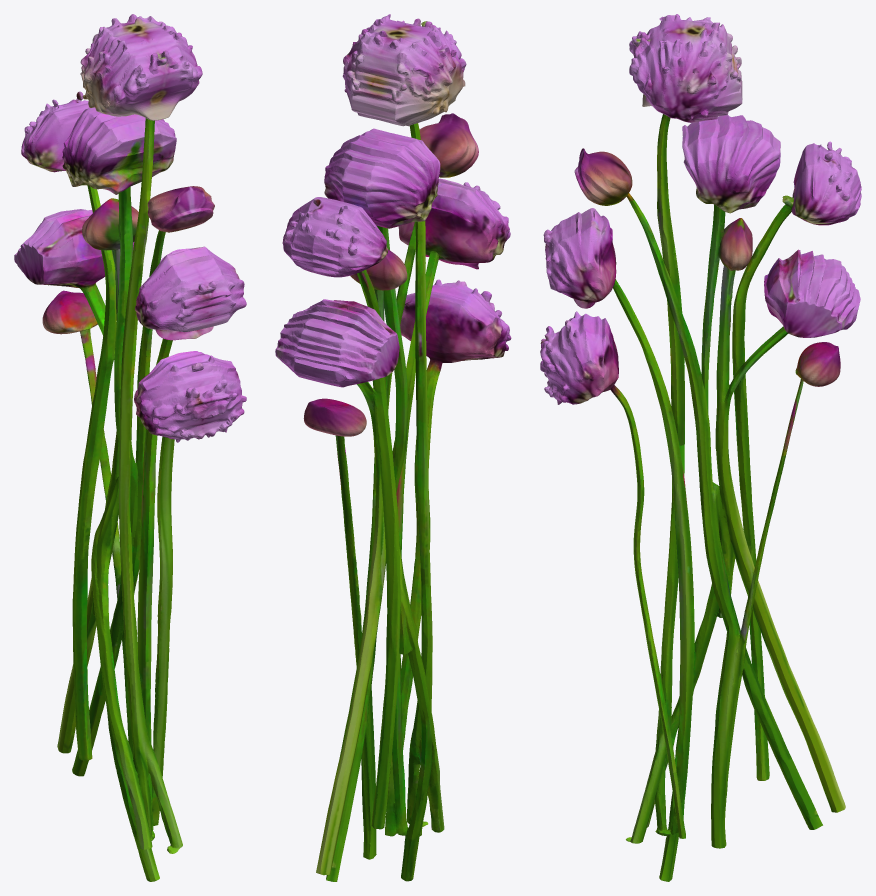
Rendered from chives.glb.
3 renders of one model, left to right at view 1: azimuth 30°, elevation 25°; view 2: azimuth 150°, elevation 25°; view 3: azimuth 270°, elevation 25°, orthographic.
Visible parts, largest first — view 1: tripo_node_54e1e279-bbe3-435e-9aee-fd4b3b8a90f4; view 2: tripo_node_54e1e279-bbe3-435e-9aee-fd4b3b8a90f4; view 3: tripo_node_54e1e279-bbe3-435e-9aee-fd4b3b8a90f4.
Boxes of the visible parts, <box> form: tripo_node_54e1e279-bbe3-435e-9aee-fd4b3b8a90f4: <box>14,14,246,881</box>; tripo_node_54e1e279-bbe3-435e-9aee-fd4b3b8a90f4: <box>275,14,511,881</box>; tripo_node_54e1e279-bbe3-435e-9aee-fd4b3b8a90f4: <box>540,14,861,881</box>.
Size of the model in its own units: 0.1288 by 1 by 0.3419.
1 material, 1 textured.
